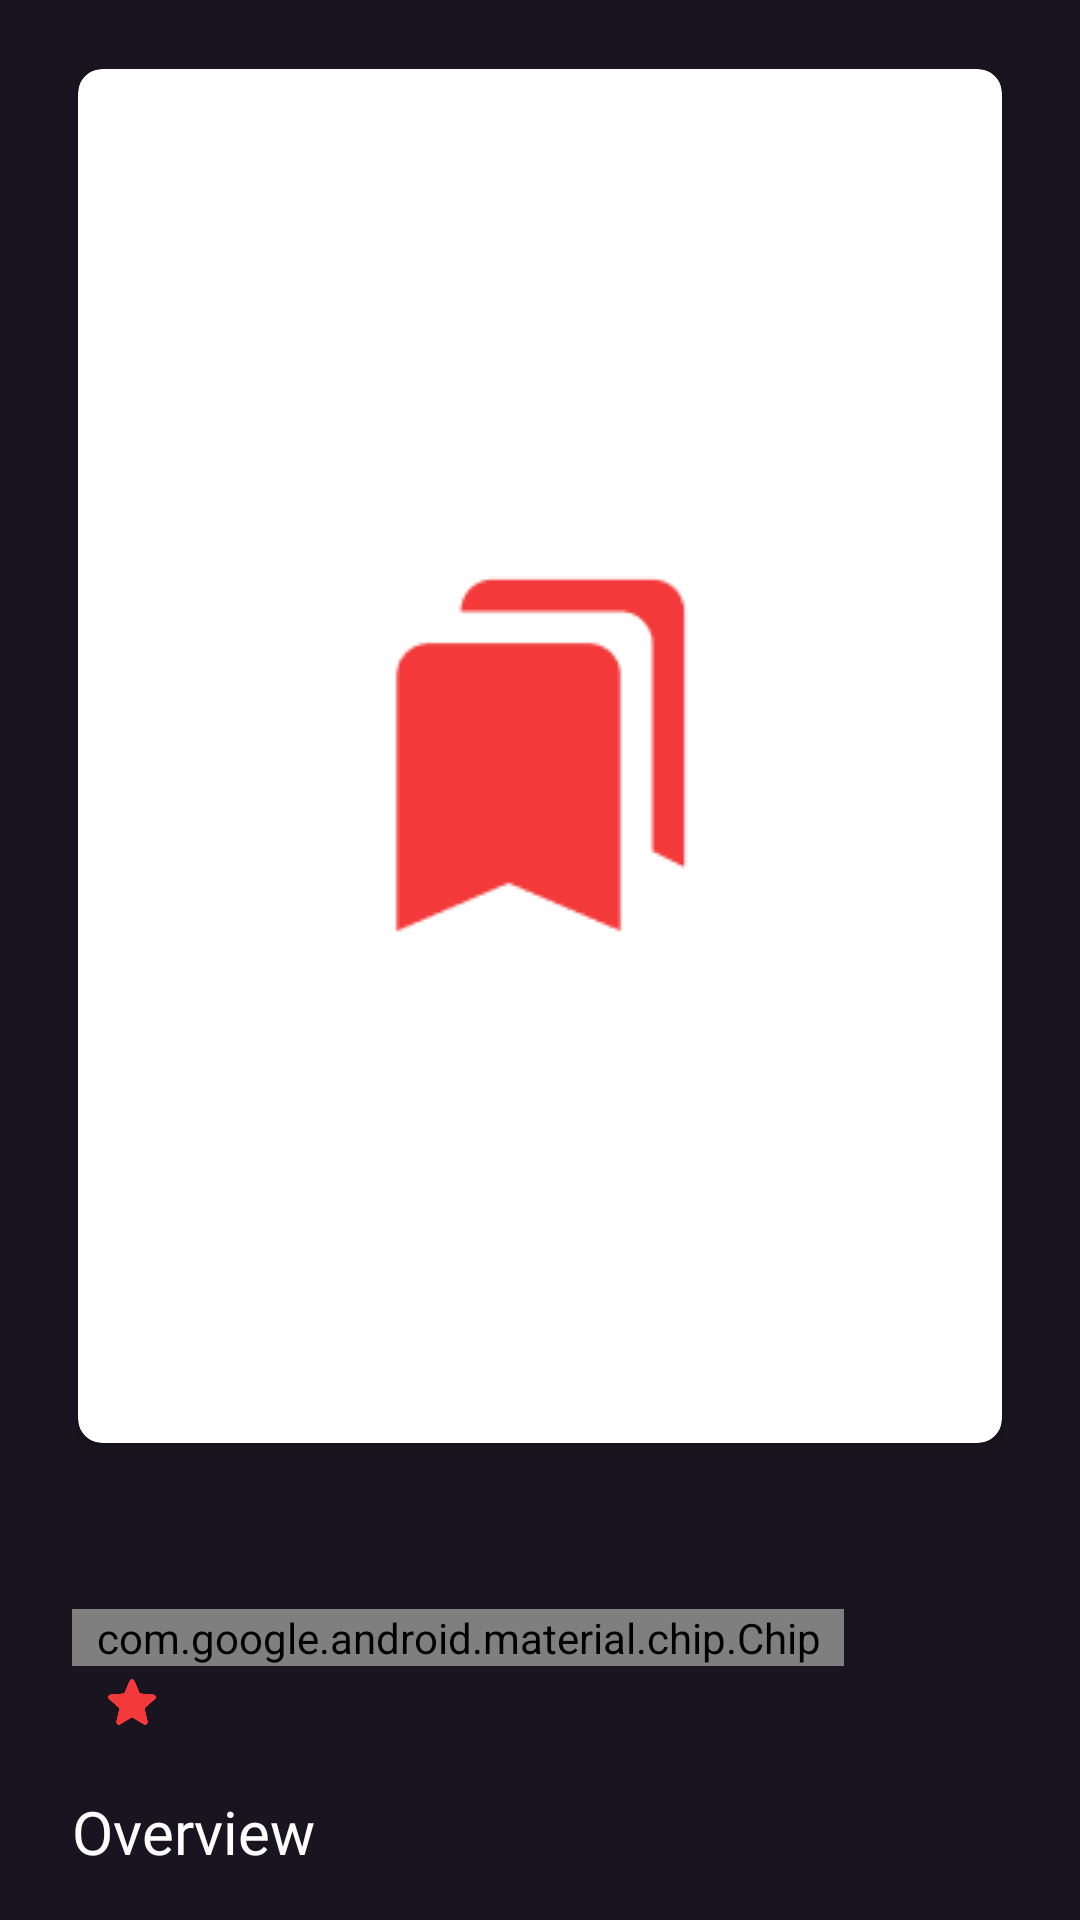

Named icons in this screenshot (1080w x 1920h) and their centers, (x=x, y=y):
star: (x=132, y=1702)
